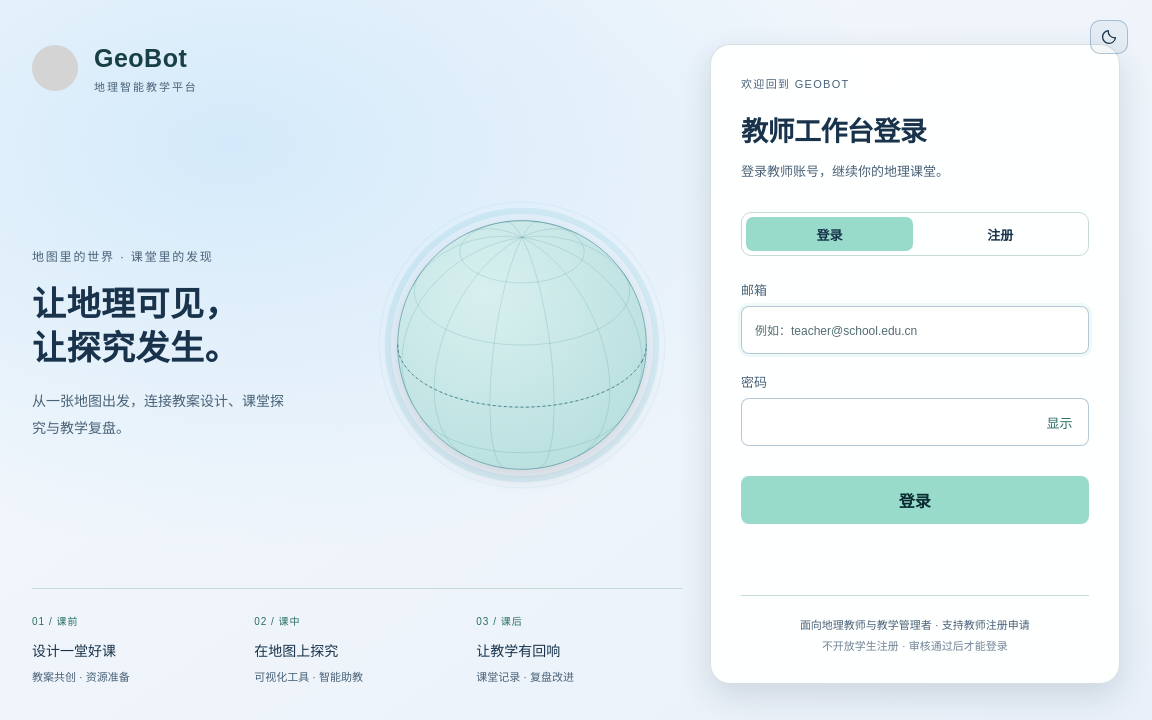
AuthGate registration › submits the application, returns to login with a status notice, and never signs in
Expected: the heading "教师工作台登录" is shown, [742, 117, 927, 147]
Click the button "注册": (1001, 234) [917, 217, 1084, 251]
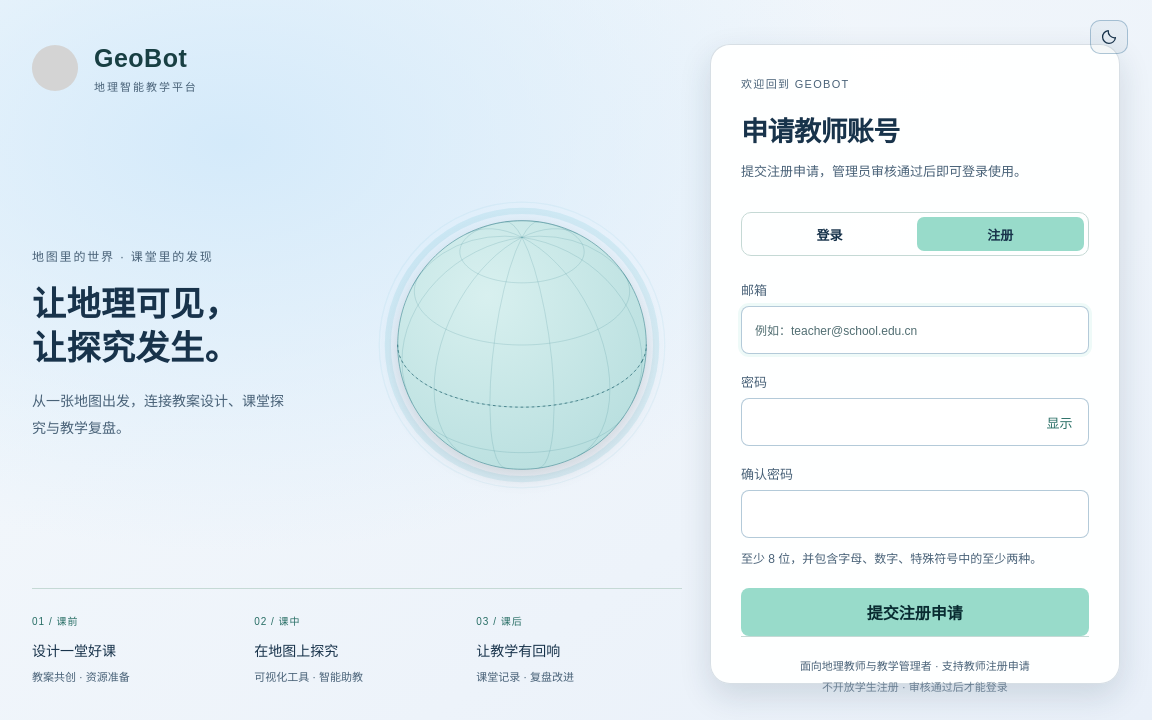
In the field labelled "邮箱": (915, 330) [742, 306, 1089, 354], type "new@school.edu.cn"
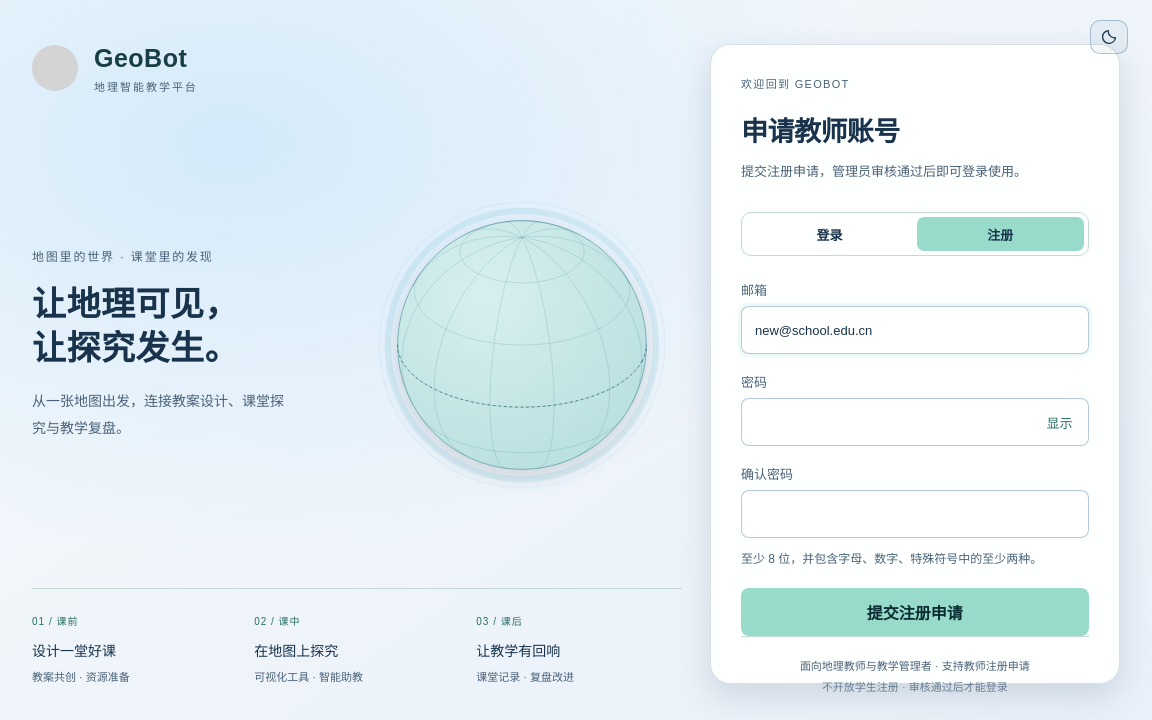
In the password field labelled "密码 显示": (915, 422) [742, 398, 1089, 446], type "Strong-Teacher-2026!"
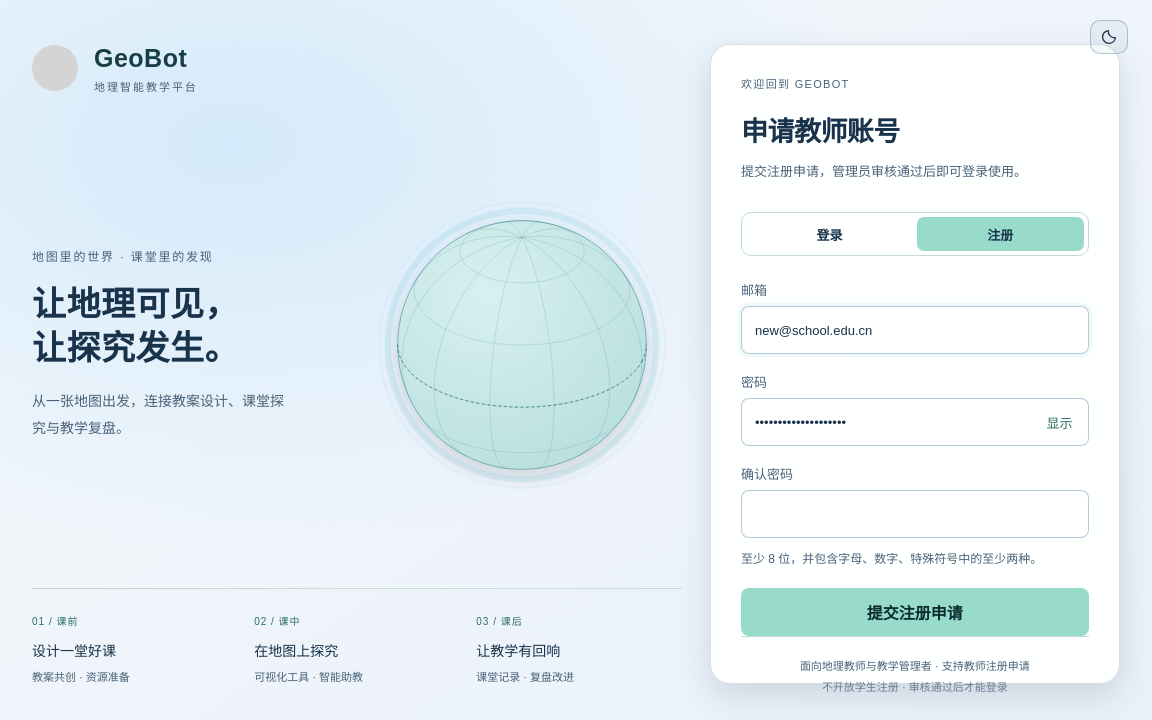
In the password field labelled "确认密码": (915, 514) [742, 490, 1089, 538], type "Strong-Teacher-2026!"
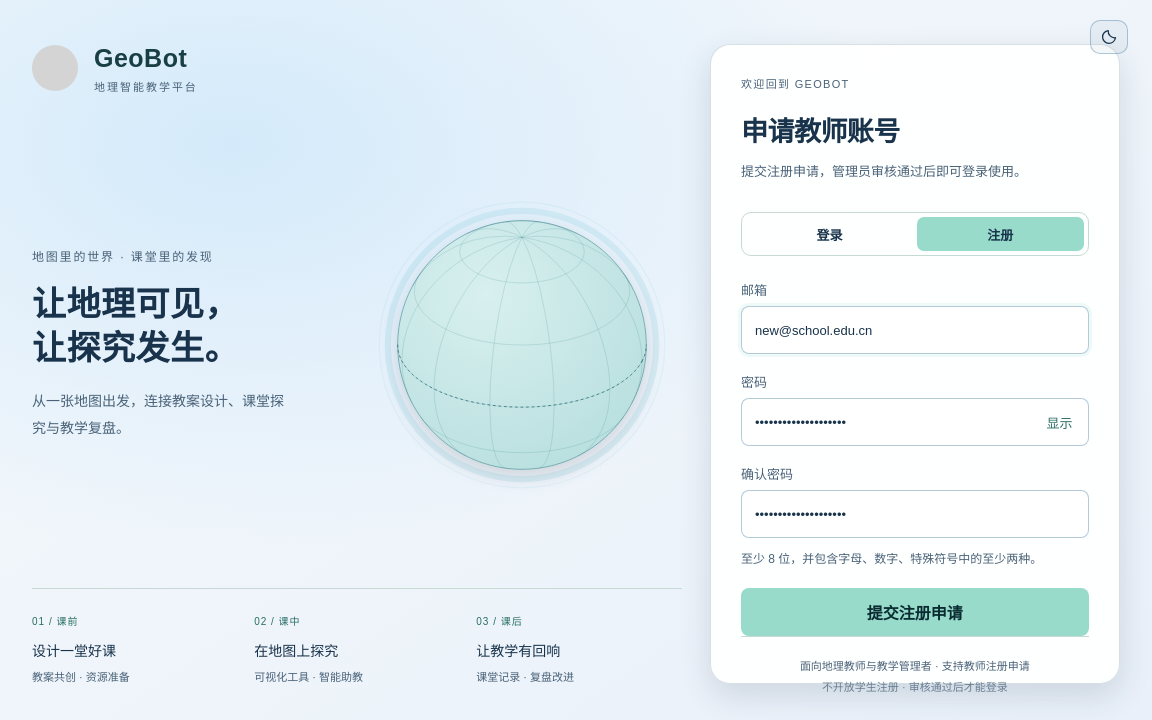
Click the button "提交注册申请": (915, 612) [742, 588, 1089, 636]
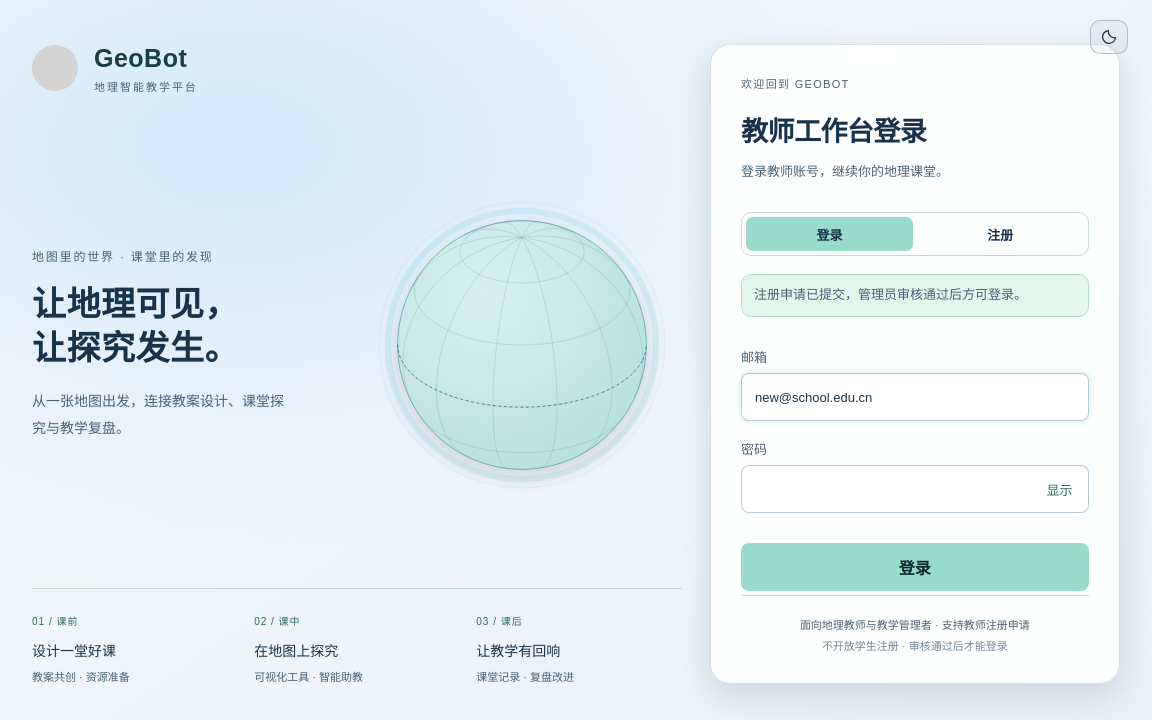
Result: the message reads "注册申请已提交，管理员审核通过后方可登录。" at [754, 287, 1028, 302]
Result: the heading "教师工作台登录" is shown at [742, 117, 927, 147]
